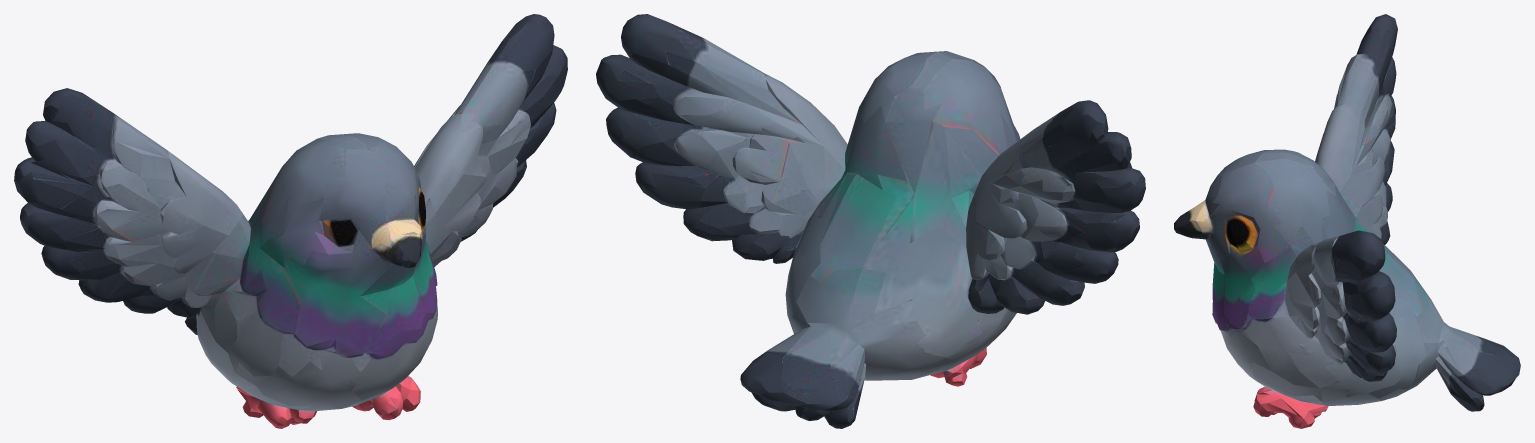
The model's file is by-due-flyv.glb.
3 renders of one model, left to right at view 1: azimuth 30°, elevation 25°; view 2: azimuth 150°, elevation 25°; view 3: azimuth 270°, elevation 25°, orthographic. The views are drawn at different scales.
Size of the model in its own units: 1.9 by 1.16 by 1.22.
Materials: 1 (1 with a texture image).
